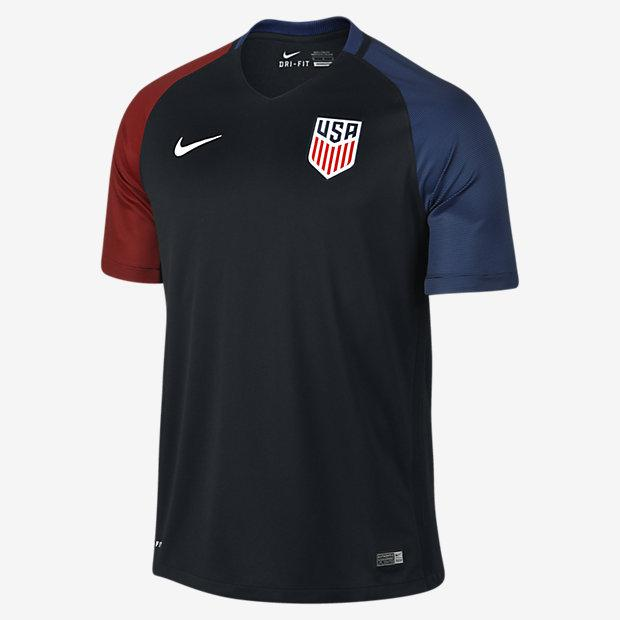teeshirt: (74, 12, 527, 617)
